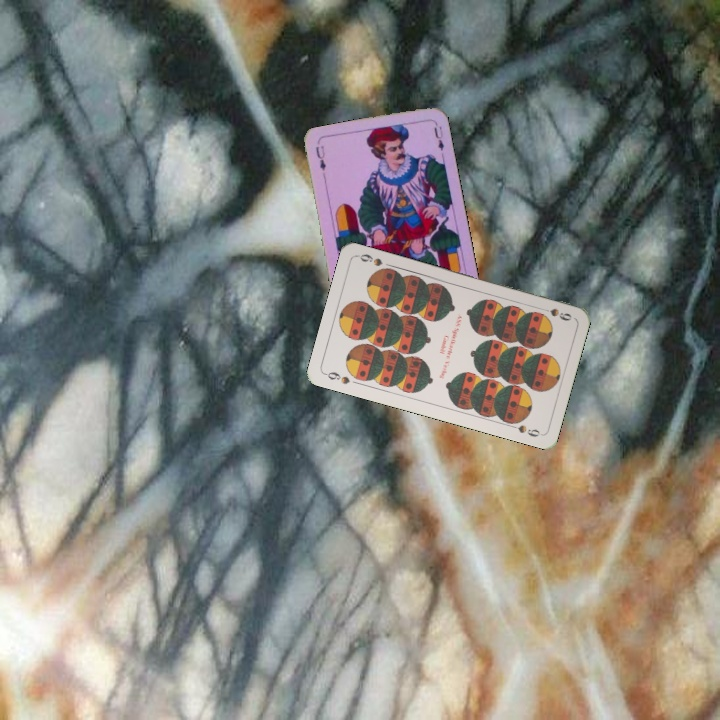EU: (311, 141, 328, 173)
S9: (535, 303, 574, 323), (321, 368, 353, 387)
